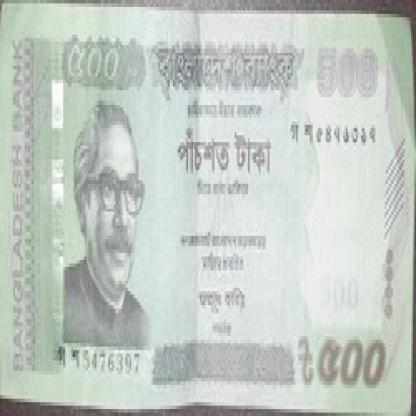500 taka: (166, 118, 286, 194), (58, 42, 136, 86)
currency: (10, 11, 413, 406)
